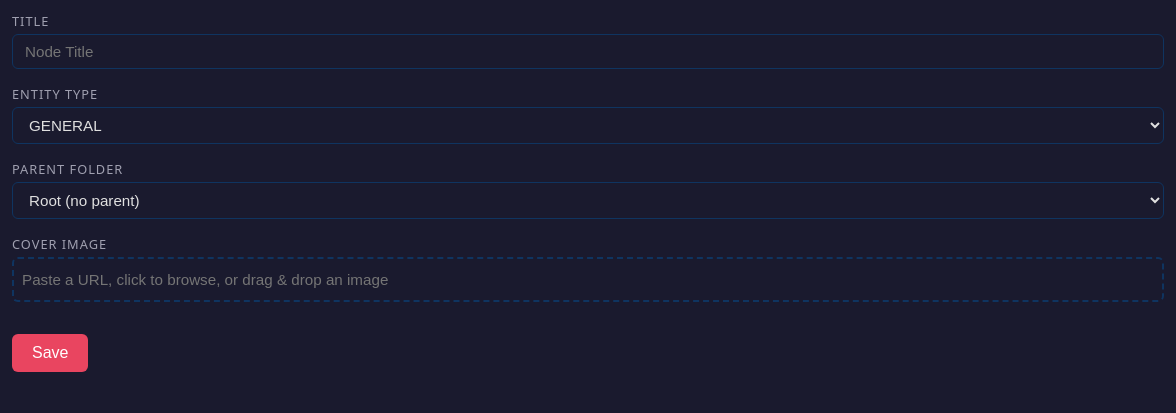
Scenario: GmWikiEditor.vue — Parent Selector UI › Title Validation › shows error when saving with empty title
Click the button with test id "wiki-save" at coordinates (50, 353), box [12,334,88,372]
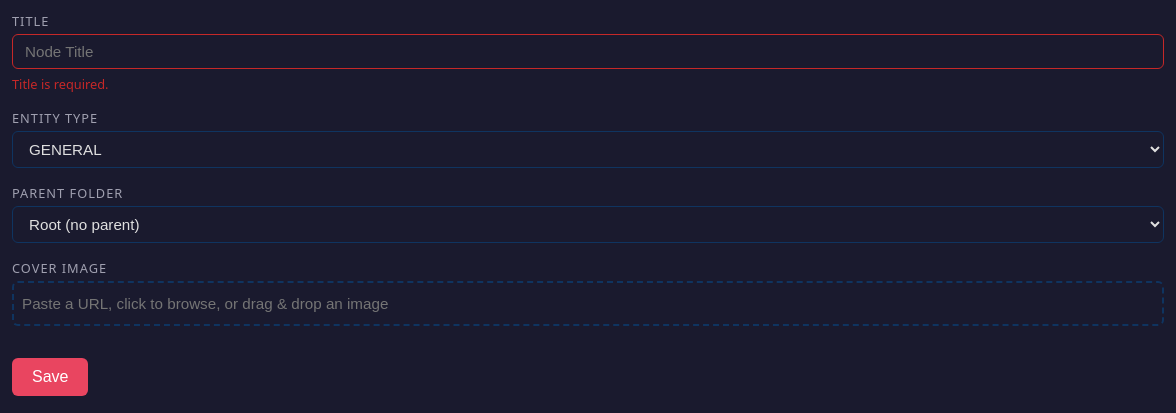
Expected: the text with test id "wiki-title-error" shows "Title is required", [12,75,108,93]
